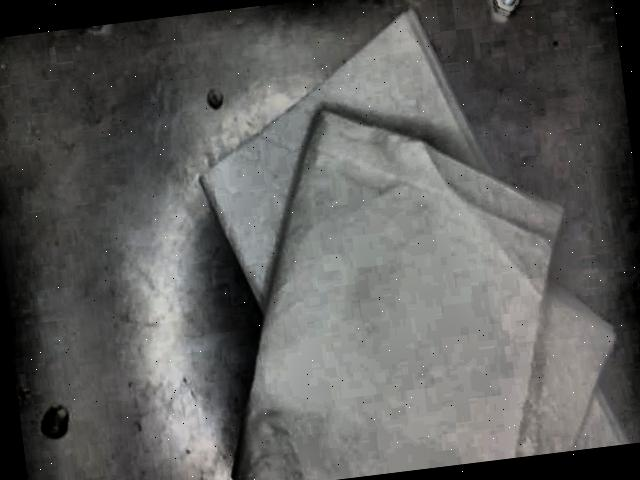Paper: (199, 9, 630, 480)
